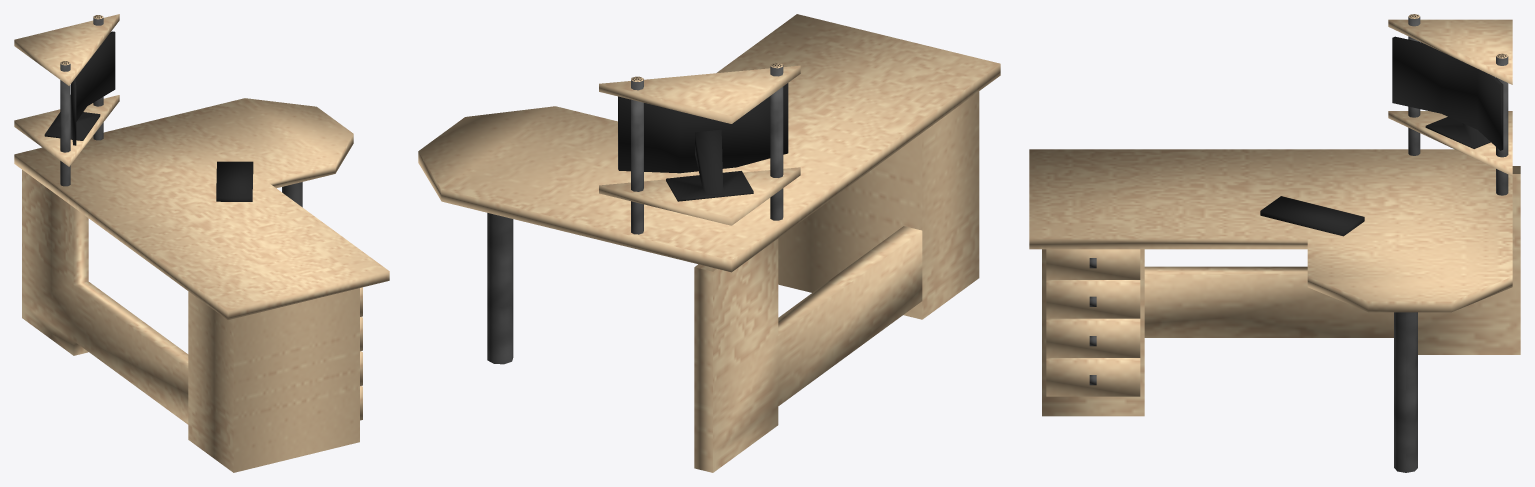
File: Table.fbx
3 renders of one model, left to right at view 1: azimuth 30°, elevation 25°; view 2: azimuth 150°, elevation 25°; view 3: azimuth 270°, elevation 25°, orthographic. The views are drawn at different scales.
Visible parts, largest first — view 1: Объект Цилиндр.1, PK; view 2: Объект Цилиндр.1, PK; view 3: Объект Цилиндр.1, PK.
Part boxes in pixels (left/top/right/bottom): Объект Цилиндр.1: left=14, top=14, right=389, bottom=472; PK: left=44, top=31, right=253, bottom=201; Объект Цилиндр.1: left=418, top=14, right=1000, bottom=472; PK: left=618, top=83, right=788, bottom=201; Объект Цилиндр.1: left=1029, top=14, right=1520, bottom=472; PK: left=1260, top=36, right=1503, bottom=236.
Size of the model in its own units: 149 by 150 by 203.
Materials: 2 (1 with a texture image).
